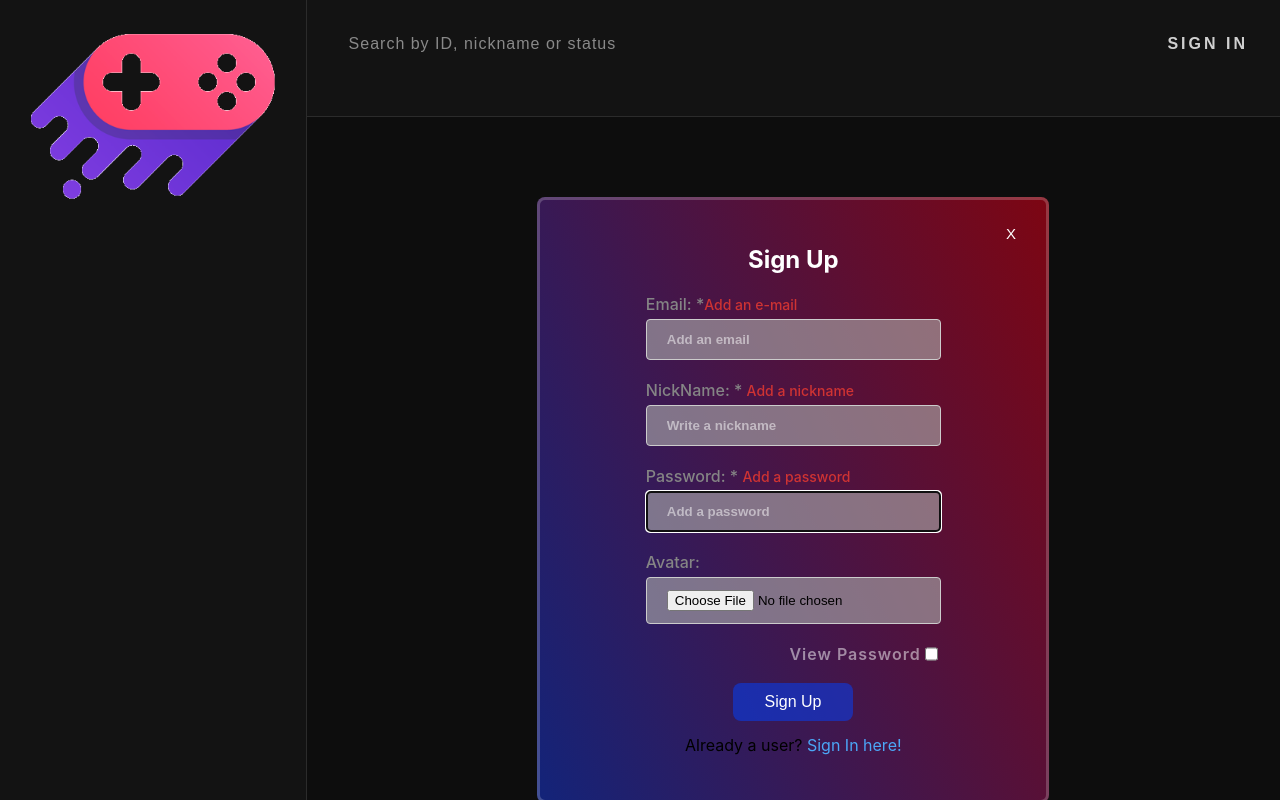
Test: Render the Login › Password input: Check length's password input
In the password field named "password": (794, 512) [646, 491, 941, 532], type "pass1"
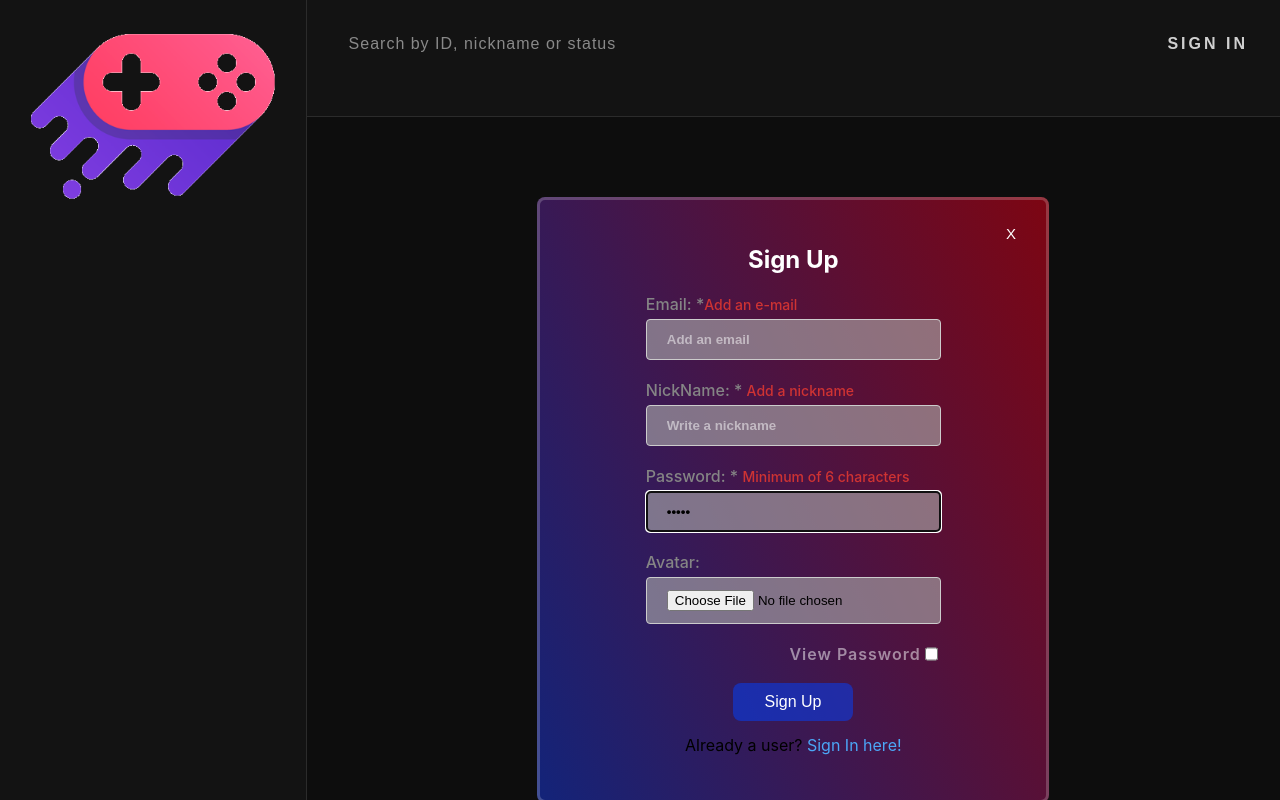
Check: the text "Minimum of 6 characters" is shown, box [742, 468, 910, 485]
